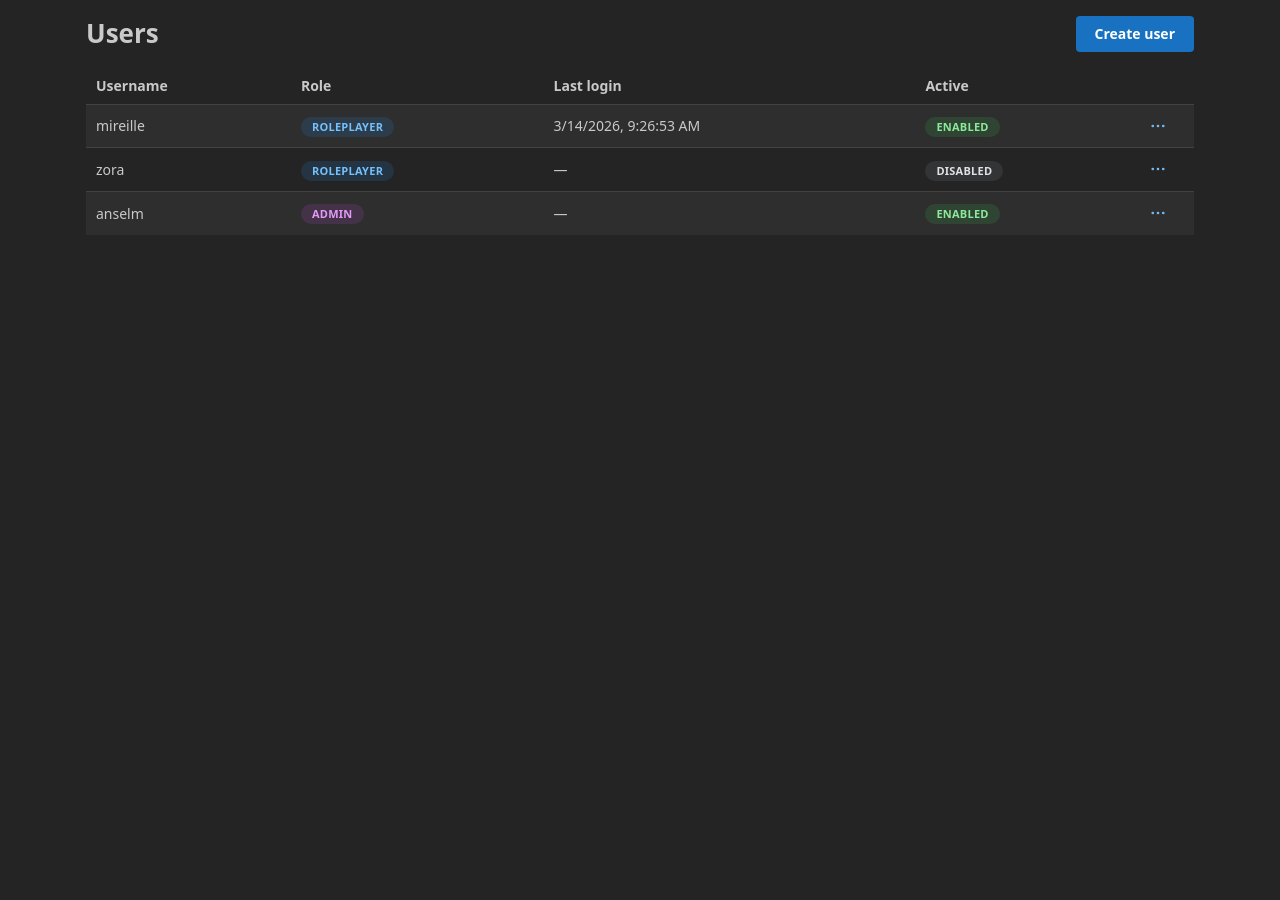
Scenario: disable goes through the shared confirm › choosing Disable opens the confirm and issues no request — DoD-10 (US-009.AC-1)
This screenshot has width=1280, height=900.
Step 1. Click the submit button → (1158, 126), box [1144, 112, 1172, 140]
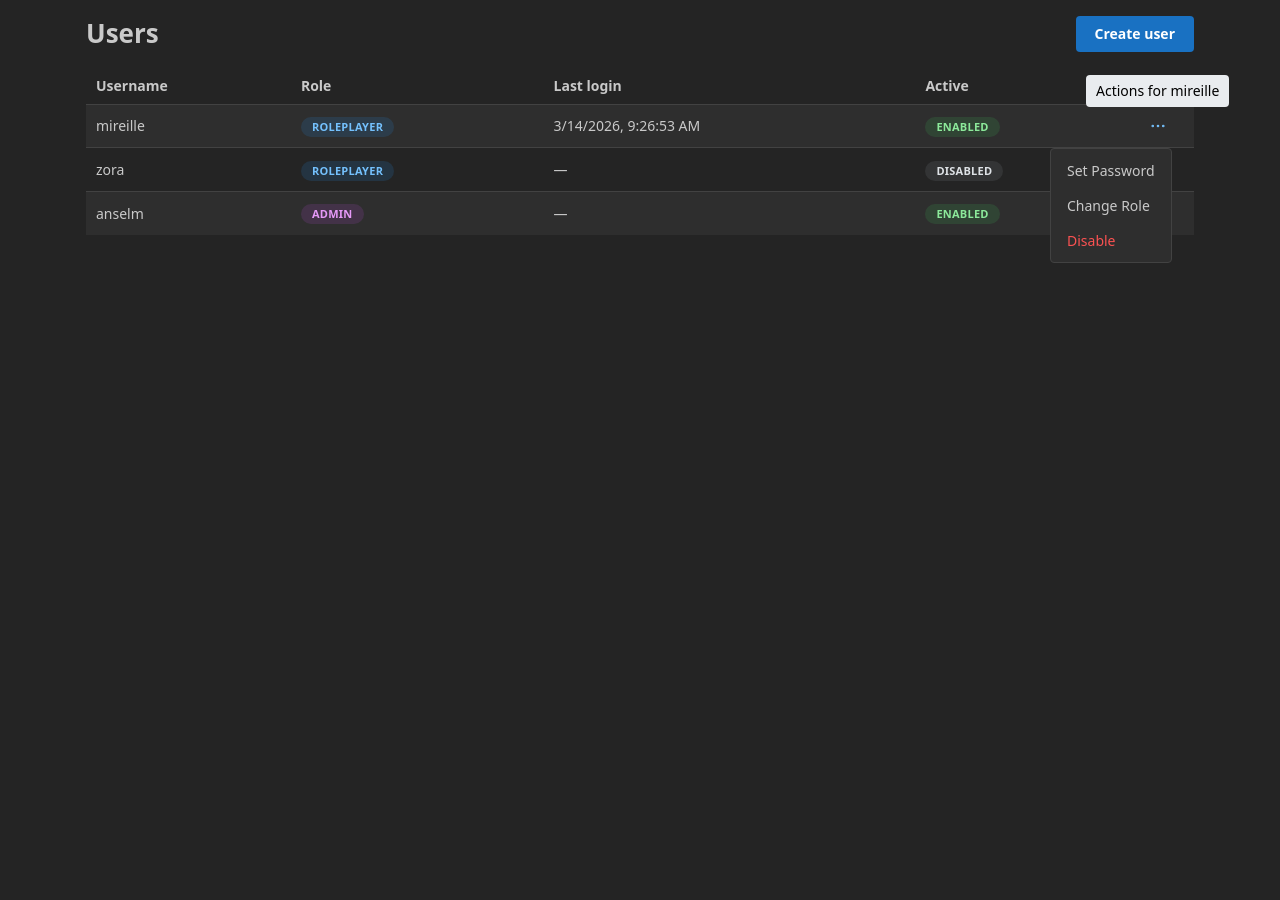
Step 2. Click the menu item "Disable" → (1111, 241), box [1055, 223, 1167, 258]
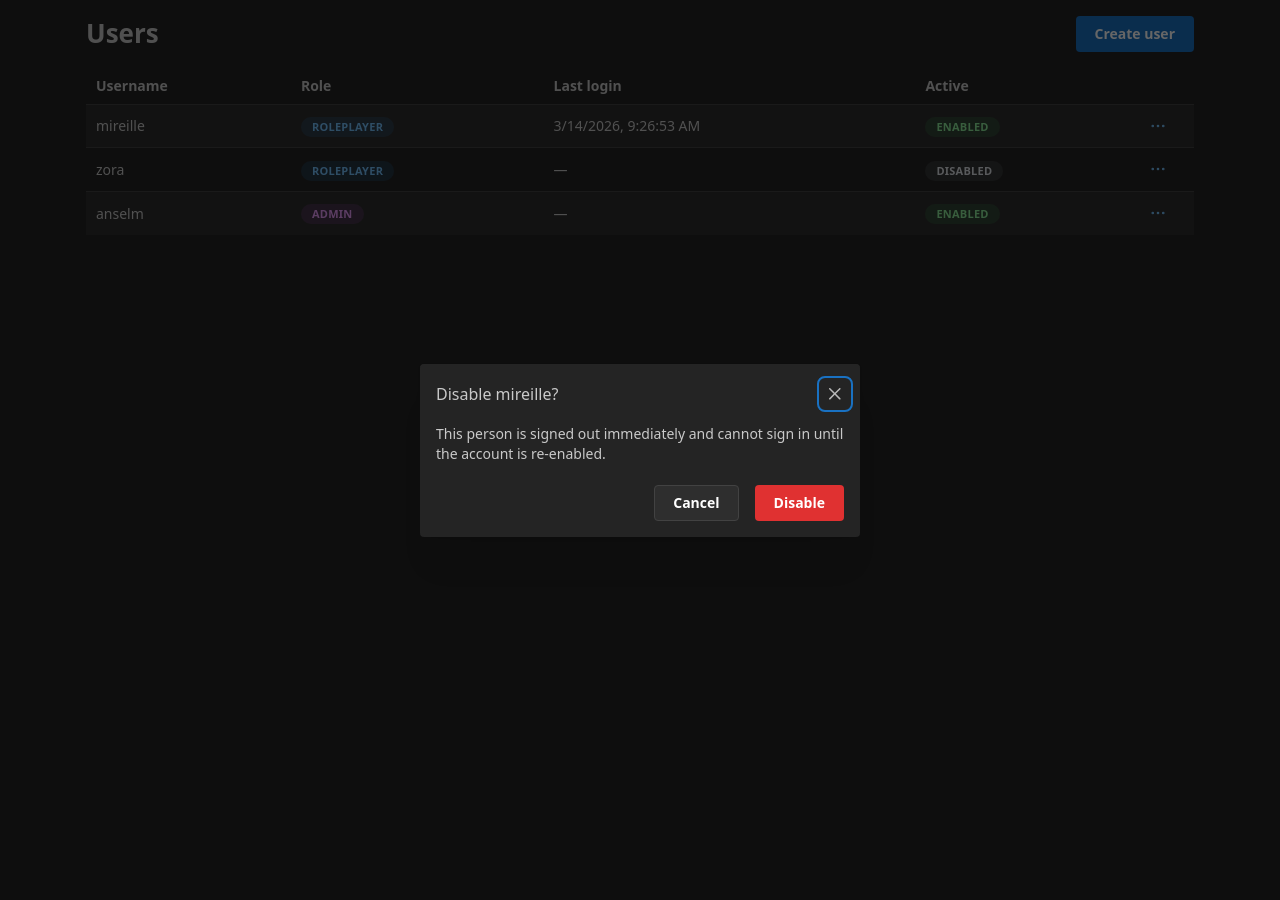
Check: the button "Disable" is shown, box [754, 484, 844, 520]
Check: the button "Cancel" is shown, box [654, 484, 738, 520]
